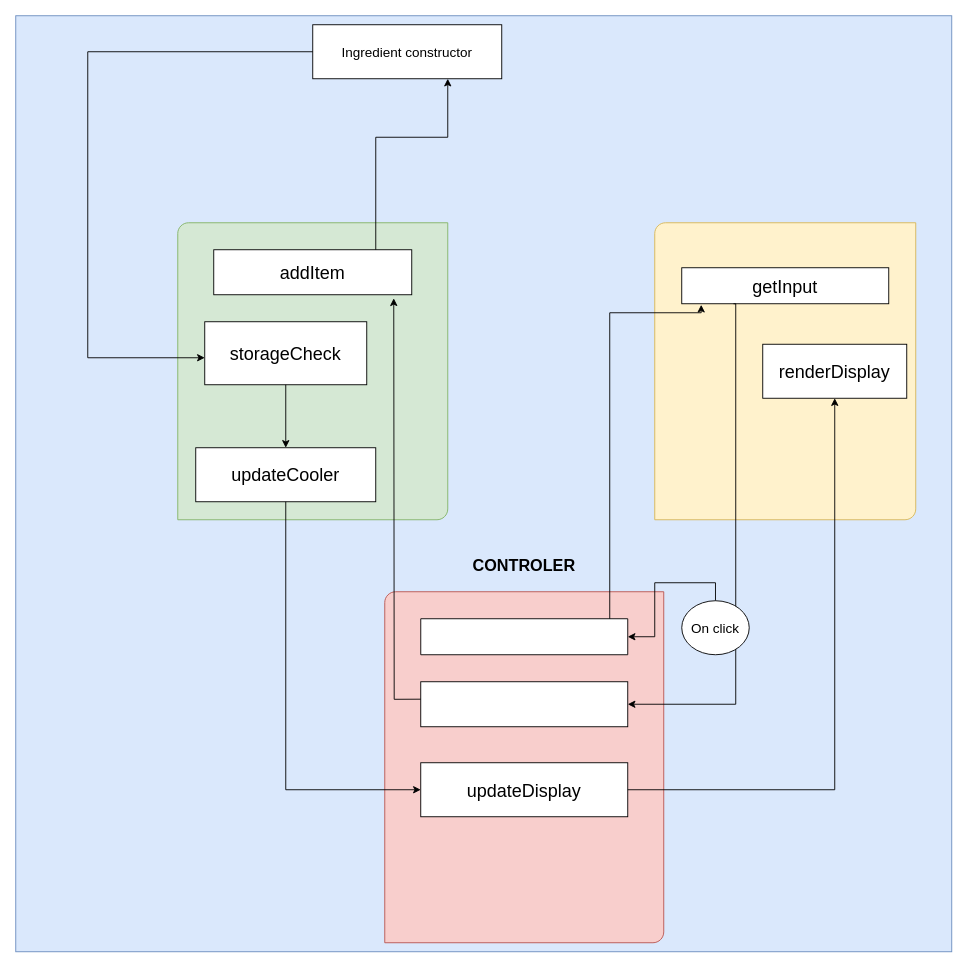
This 968x968 diagram has some shape labels left out. Each missing label, with the box of its shape:
createItem: (420, 681, 628, 727)
ctrlAddIngredient: (420, 618, 628, 655)
Model: (177, 222, 448, 520)
UI display/view: (654, 222, 916, 520)
